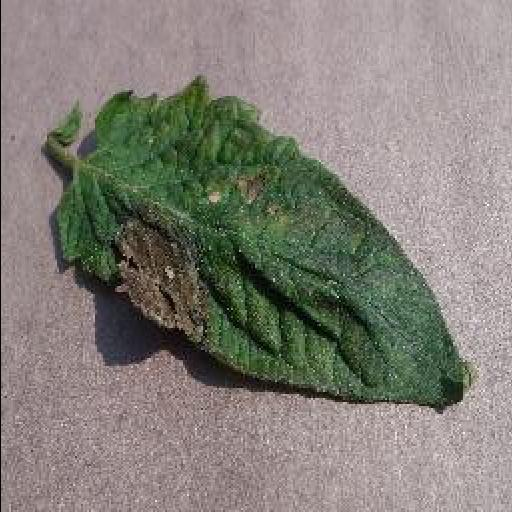disease_tomato: (51, 76, 473, 410)
